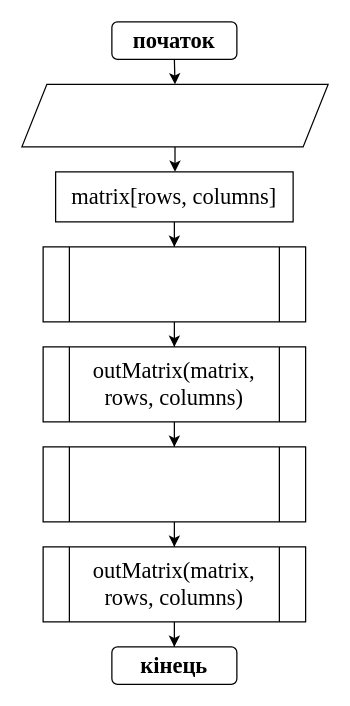
This 350x706 diagram has some shape labels left out. Here are the shapes that lost their labels. From the top down, the box of each, then its label:
(21, 83, 328, 147): введення rows, columns
(42, 246, 306, 322): initMatrix(matrix, rows, columns)
(42, 446, 306, 522): operation(matrix, rows, columns)
